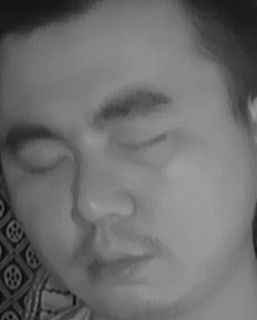blink: (117, 123, 168, 163), (20, 148, 69, 186)
mouth: (77, 233, 159, 286)
